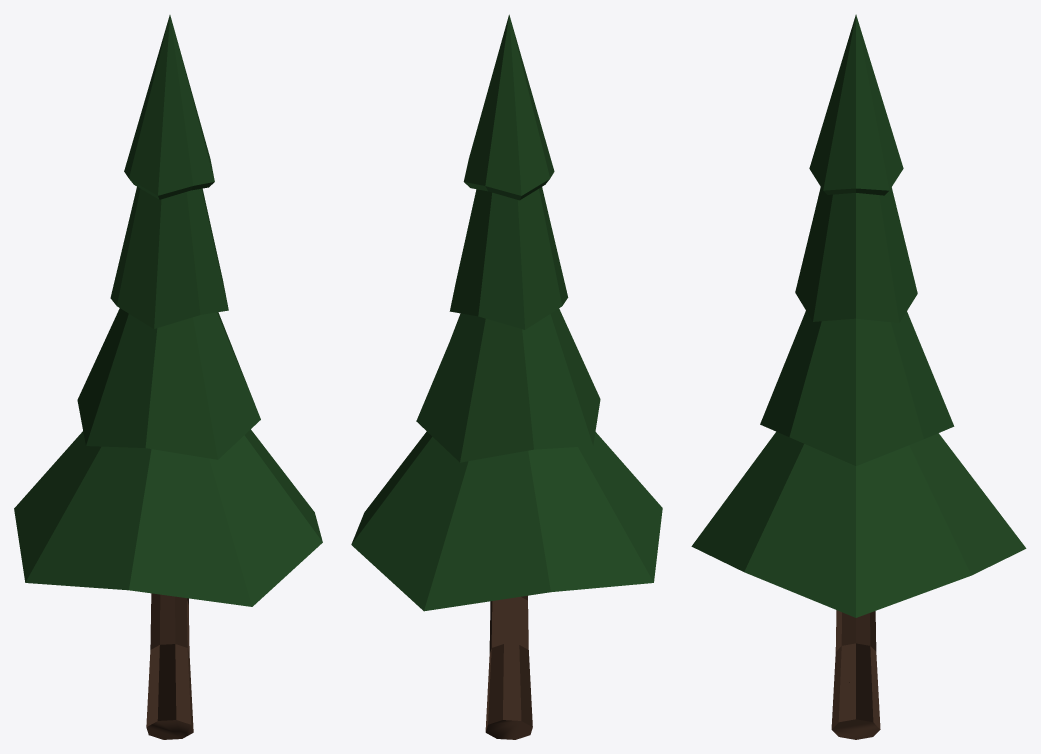
File: fir_tree_two.fbx
3 renders of one model, left to right at view 1: azimuth 30°, elevation 25°; view 2: azimuth 150°, elevation 25°; view 3: azimuth 270°, elevation 25°, orthographic.
Parts seen in each view (by area): view 1: fir_tree_two; view 2: fir_tree_two; view 3: fir_tree_two.
Part boxes in pixels (<box>): fir_tree_two: <box>14,15,322,739</box>; fir_tree_two: <box>351,14,662,739</box>; fir_tree_two: <box>691,14,1026,739</box>.
Bounding box in the file's own units: 503 × 1187 × 504.
